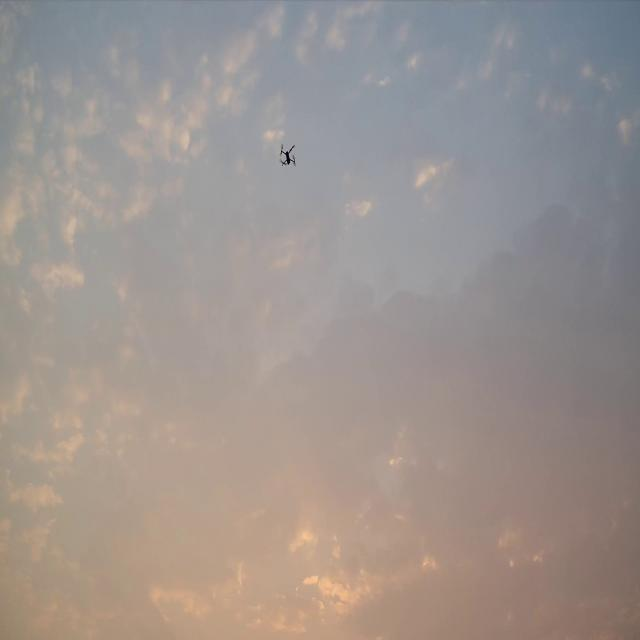UAV: (279, 143, 296, 166)
